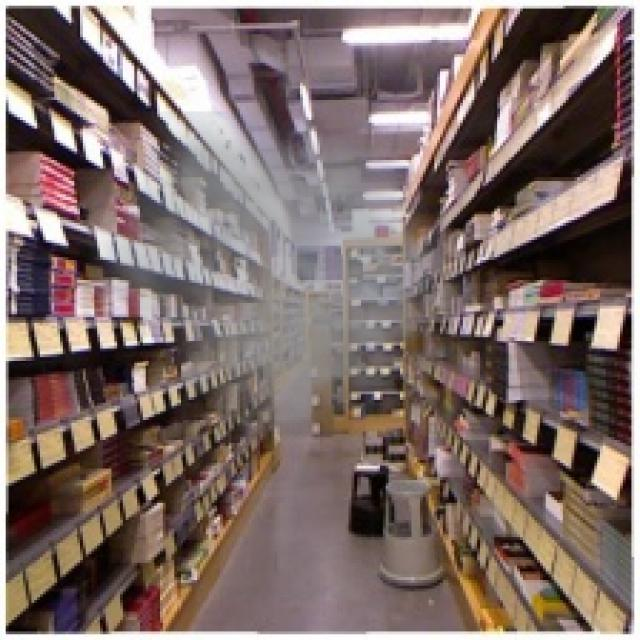smoke: (71, 111, 483, 472)
